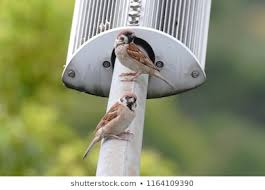home_sparrow: (81, 89, 142, 164), (112, 31, 181, 90)
